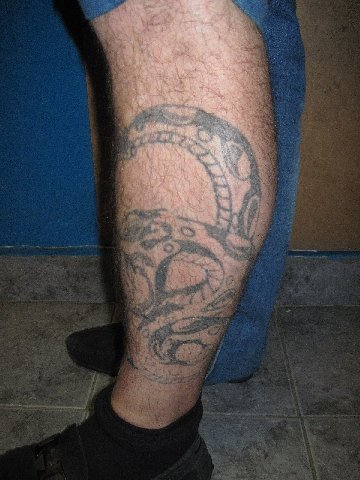tatu7_zmeya: (110, 104, 267, 388)
